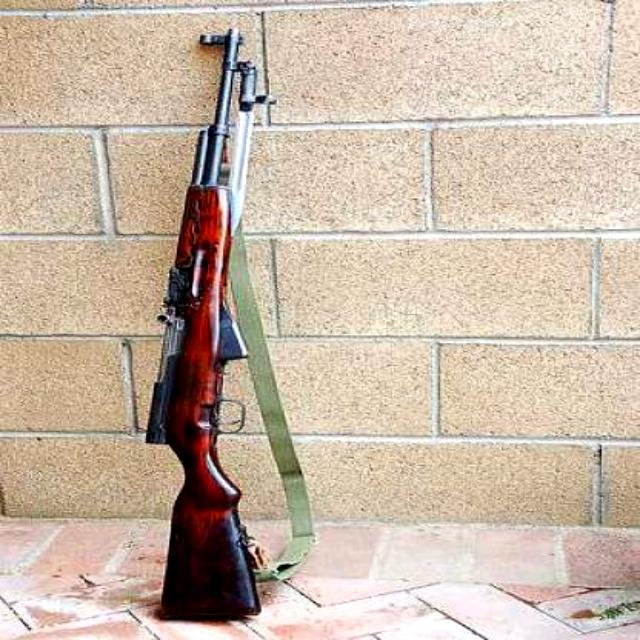rifle: (148, 26, 318, 620)
